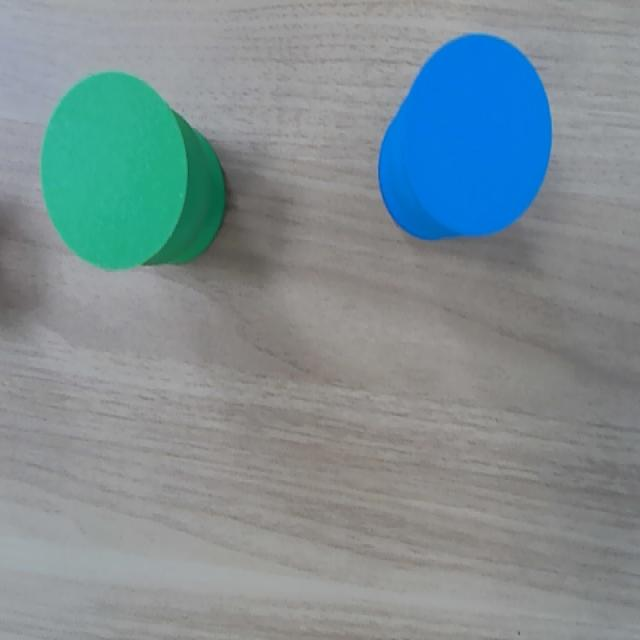b: (403, 33, 551, 236)
g: (40, 72, 187, 271)
